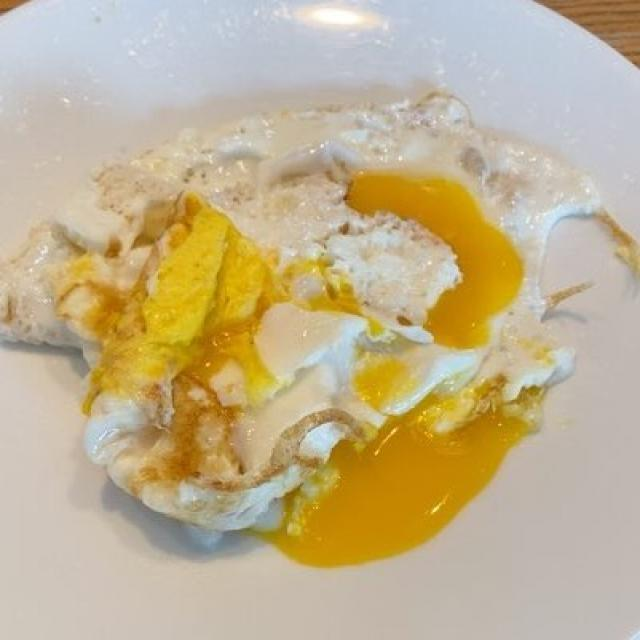egg: (20, 103, 607, 554)
